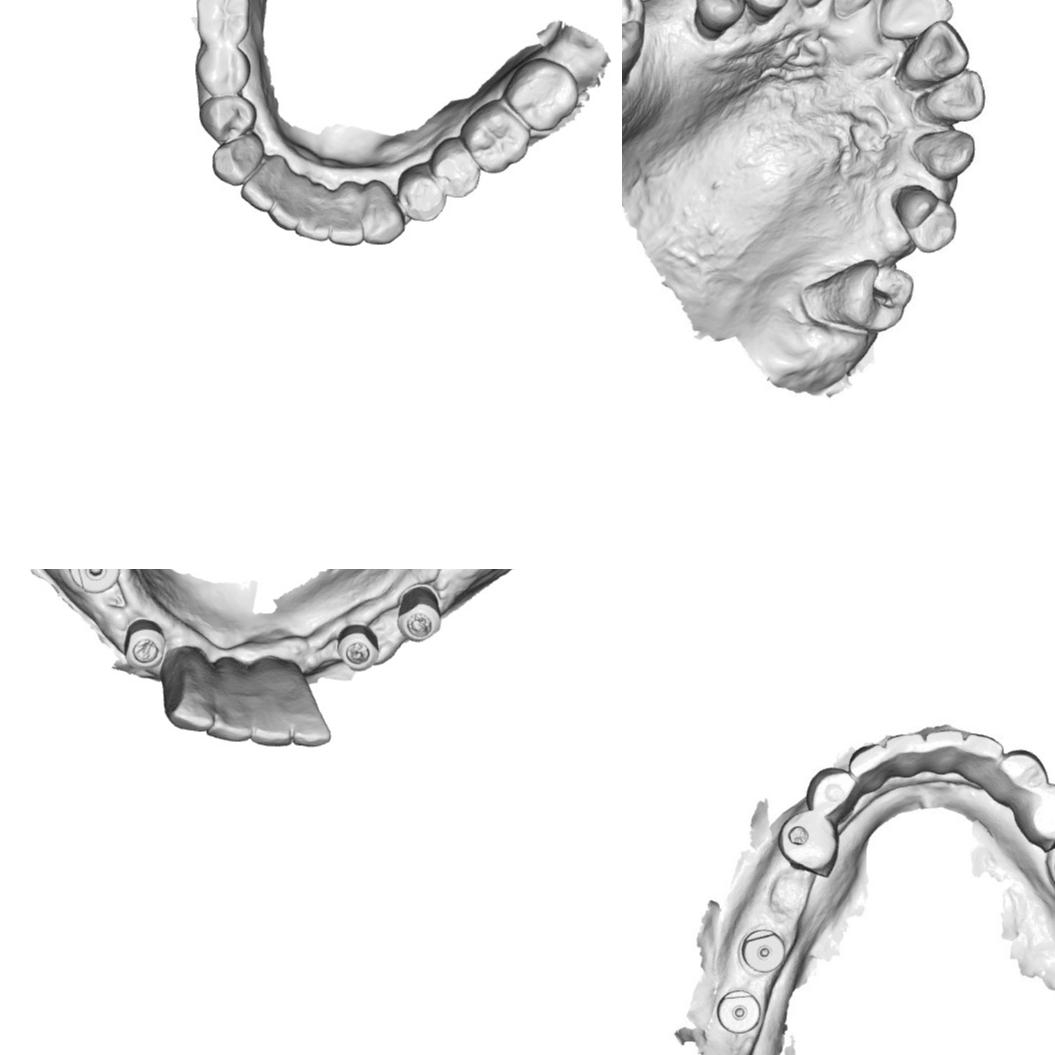canine: (909, 128, 977, 183), (995, 749, 1050, 804), (209, 133, 265, 186), (803, 766, 855, 823), (358, 184, 405, 246)
implant: (396, 584, 442, 643), (335, 623, 383, 673), (739, 926, 787, 975), (121, 618, 164, 670), (715, 988, 762, 1035), (66, 569, 124, 596)
incisor: (900, 19, 972, 85), (163, 653, 214, 734), (921, 66, 989, 125), (877, 0, 954, 42), (288, 685, 335, 749), (205, 684, 252, 748), (249, 701, 295, 750), (238, 162, 281, 214), (960, 734, 1006, 771), (922, 726, 965, 765), (265, 190, 303, 234), (849, 740, 887, 781), (326, 209, 366, 247), (294, 205, 331, 245), (886, 730, 923, 765), (832, 0, 889, 17)
molar: (818, 255, 917, 334), (503, 57, 579, 132), (460, 102, 530, 174), (192, 0, 252, 45), (622, 0, 647, 81)
premolar: (890, 176, 960, 256), (778, 808, 837, 875), (428, 136, 482, 201), (394, 165, 447, 224), (194, 43, 251, 95), (198, 96, 257, 146), (1017, 780, 1055, 850), (695, 0, 750, 29), (744, 0, 792, 15)
